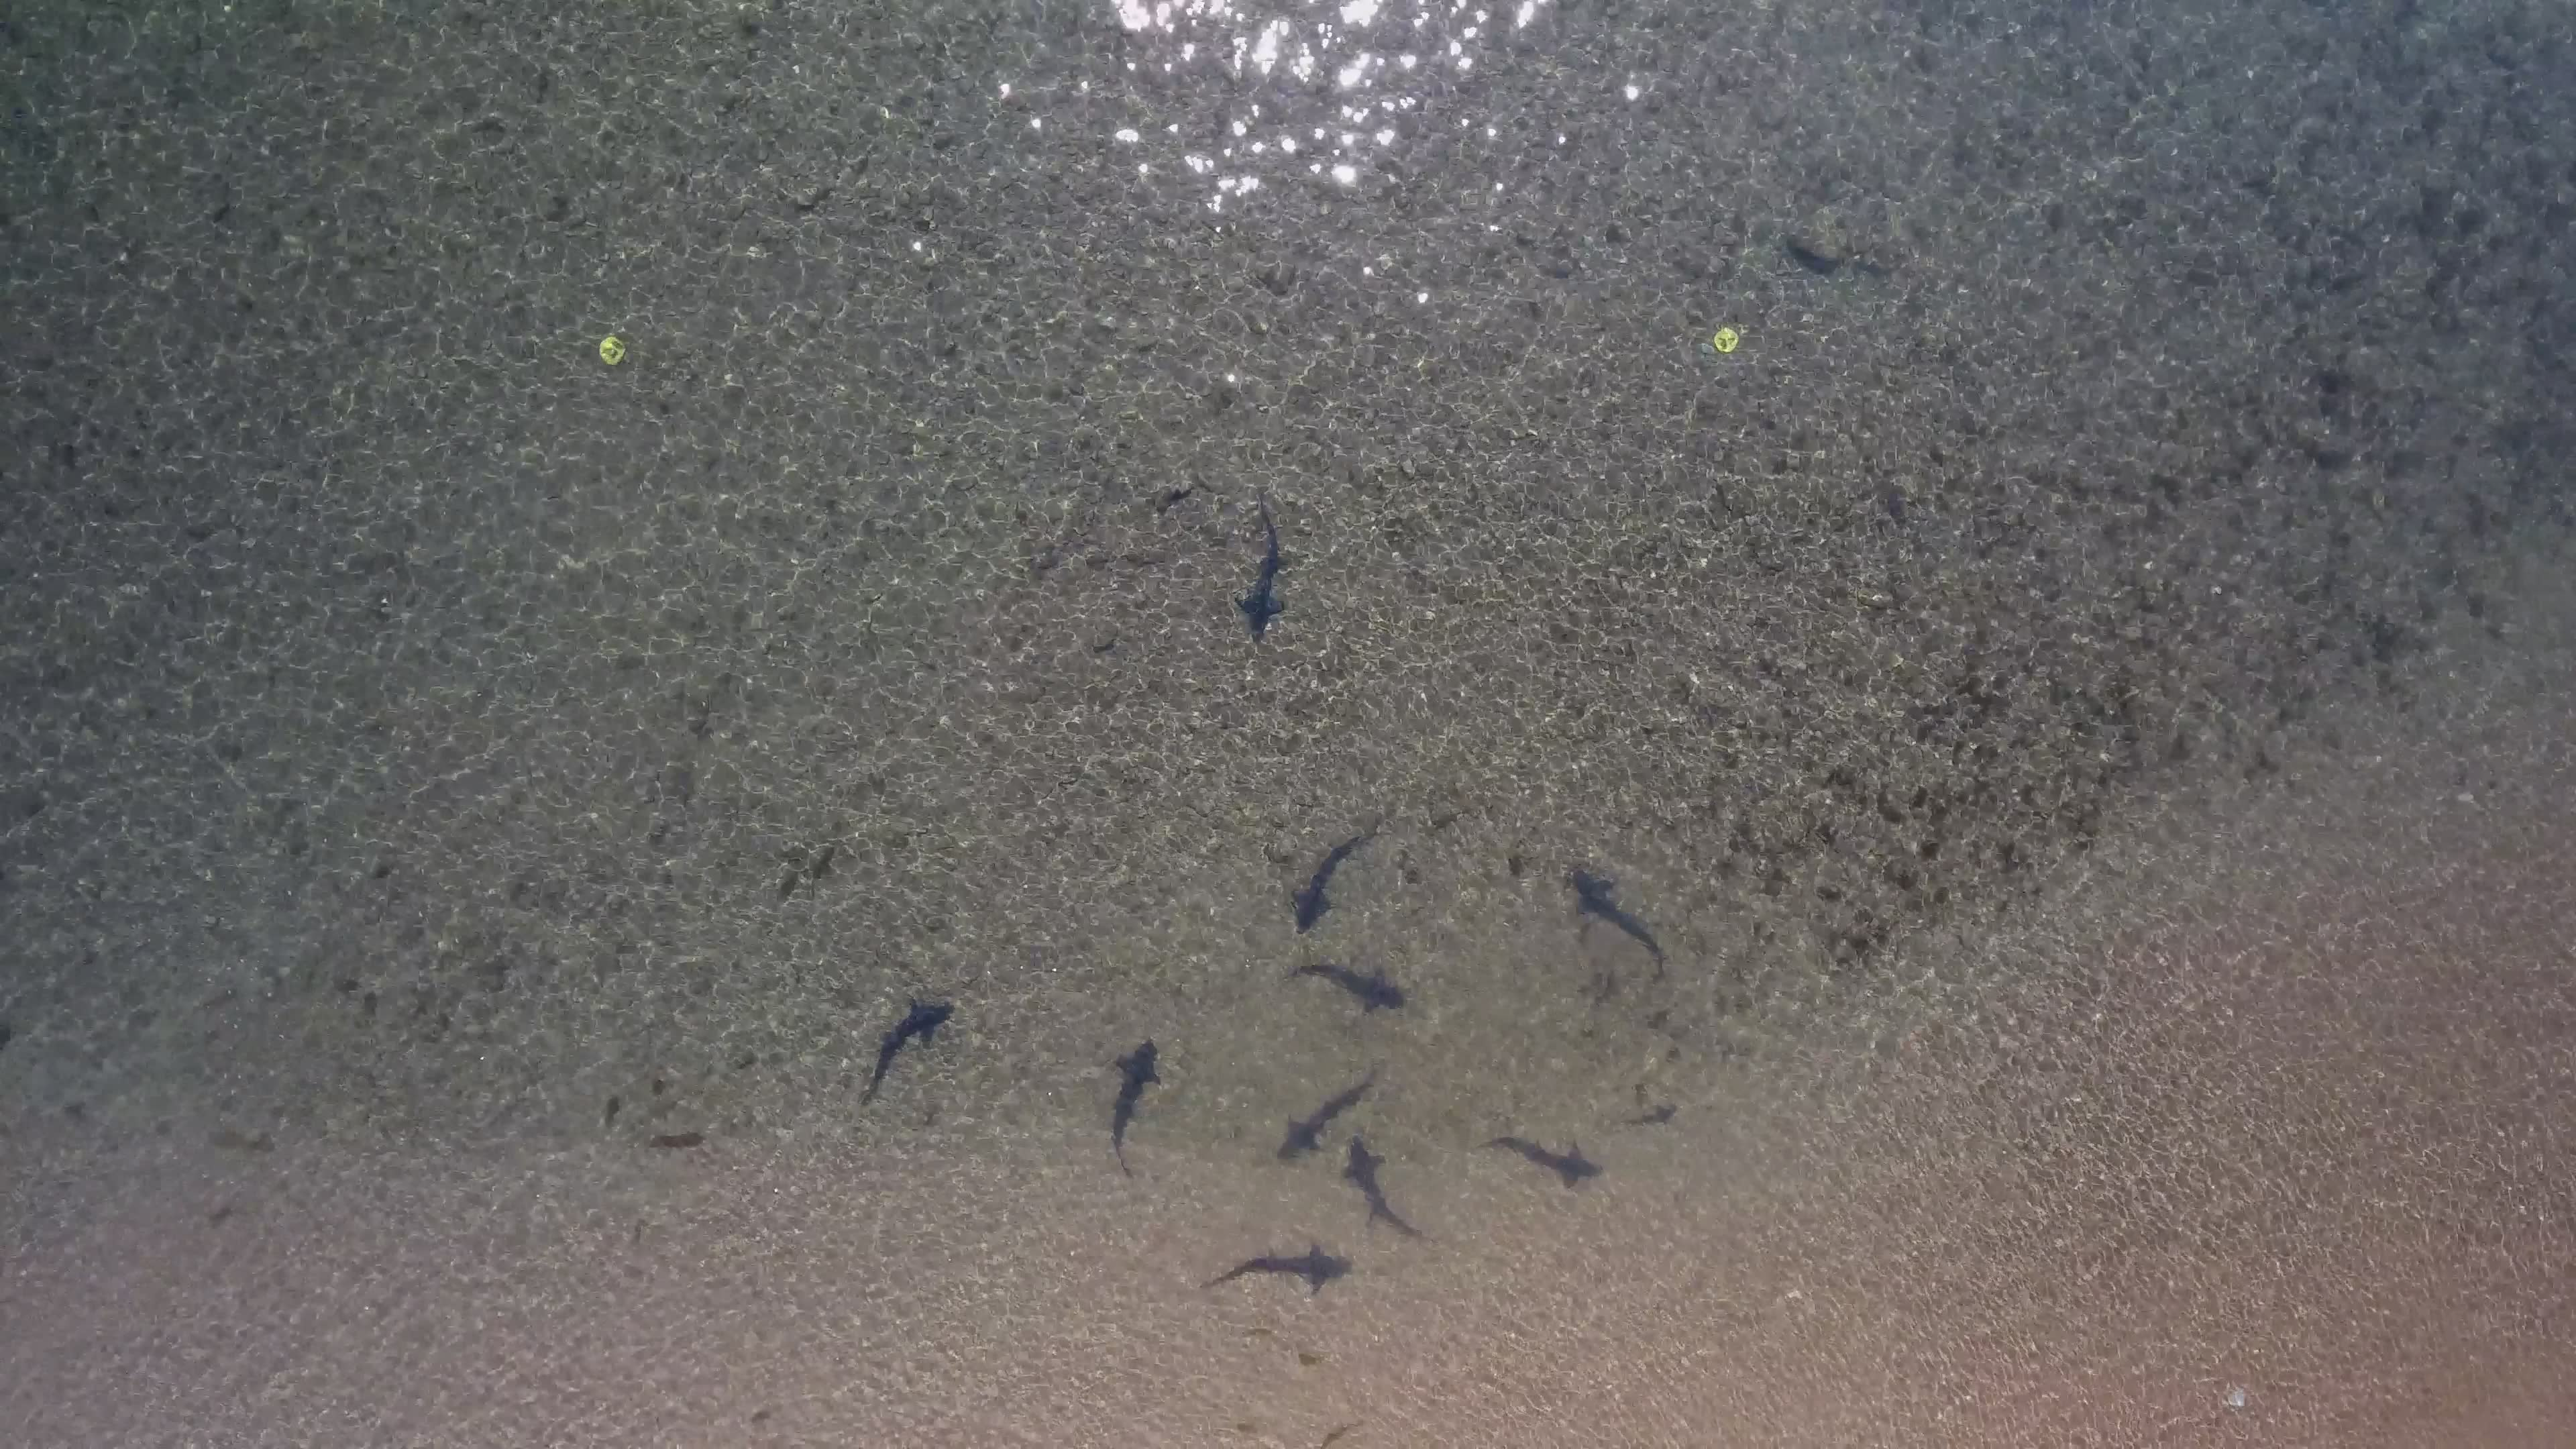shark: (1302, 817, 1362, 924)
